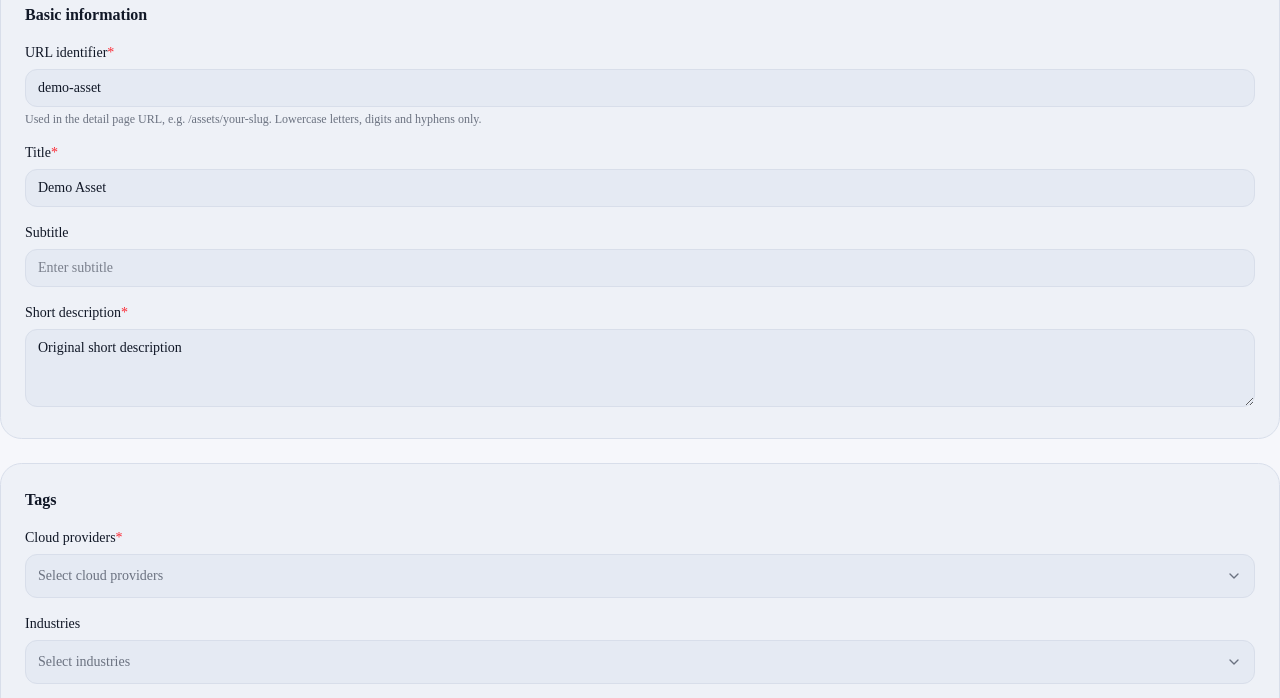
AssetEditorForm › shows a submit error message after a failed save
This screenshot has width=1280, height=698.
expect the 2nd field showing "Demo Asset" is shown: met, box 25,169 -> 1255,207
Replace the text in the text box with placeholder "Brief description shown in listings" with "Updated short description": [640, 368] box 25,329 -> 1255,407
(page scrolled)
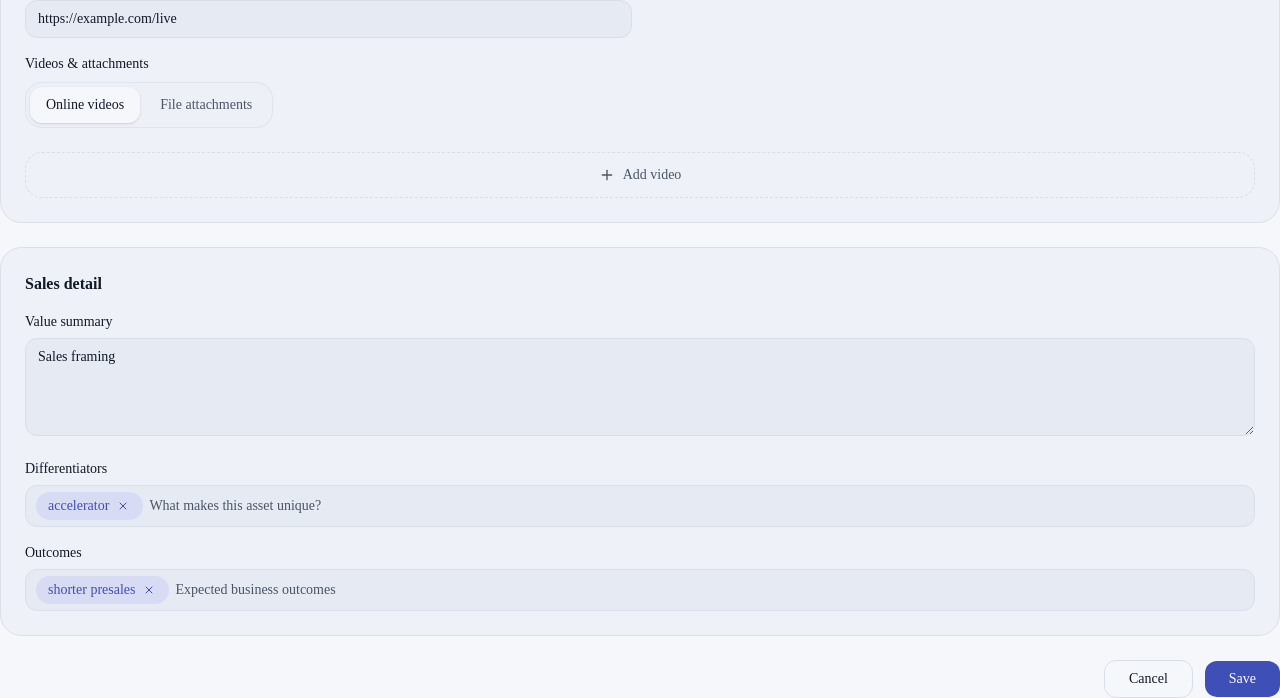
Click the button "Save": [1242, 679] box 1205,661 -> 1279,697
(page scrolled)
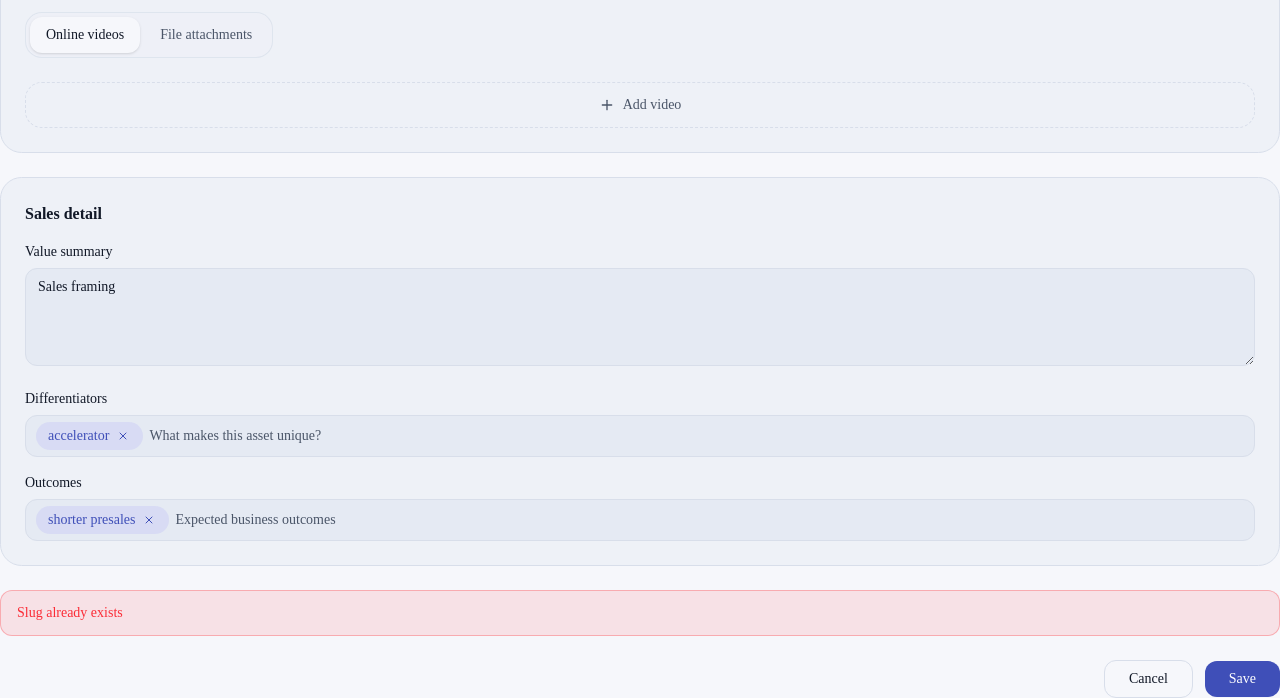
expect the text "Slug already exists" is shown: met, box 0,590 -> 1279,636
